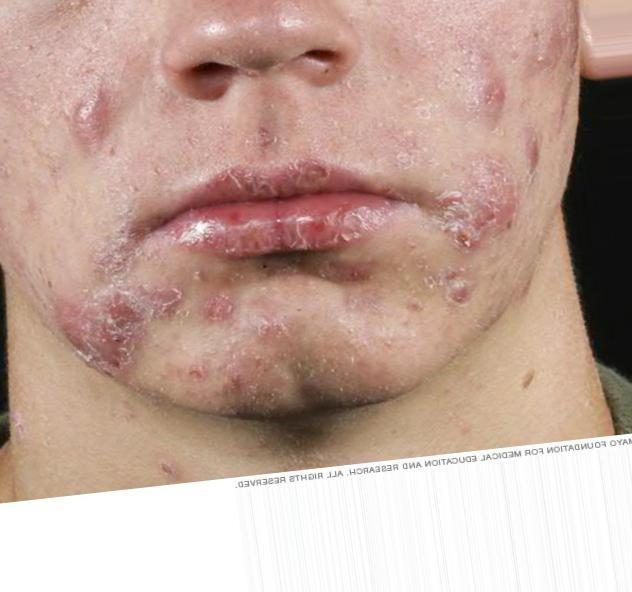Acne: (427, 147, 525, 299), (76, 257, 175, 391), (61, 59, 134, 180), (464, 36, 538, 114), (517, 11, 577, 91)
